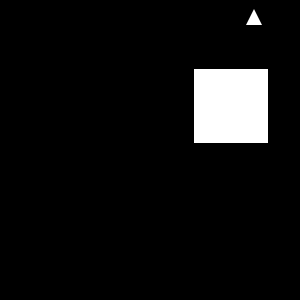circle: (194, 69, 268, 143)
triangle: (246, 9, 262, 25)
